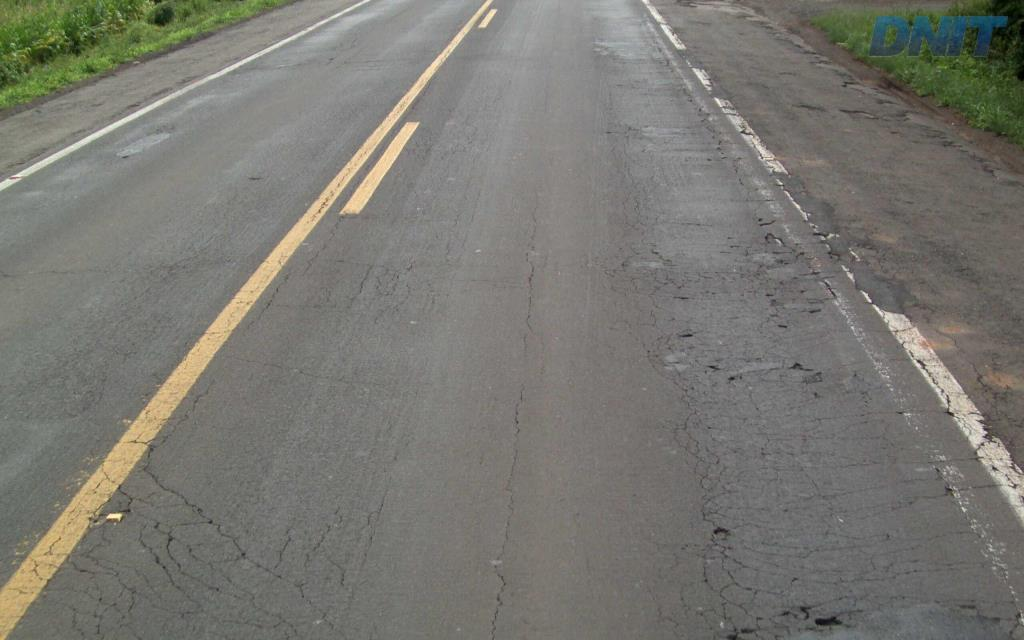crack: (151, 472, 249, 560), (138, 530, 204, 630), (153, 519, 225, 594), (695, 494, 750, 586), (777, 601, 864, 633), (712, 599, 771, 639), (947, 598, 1003, 639)
